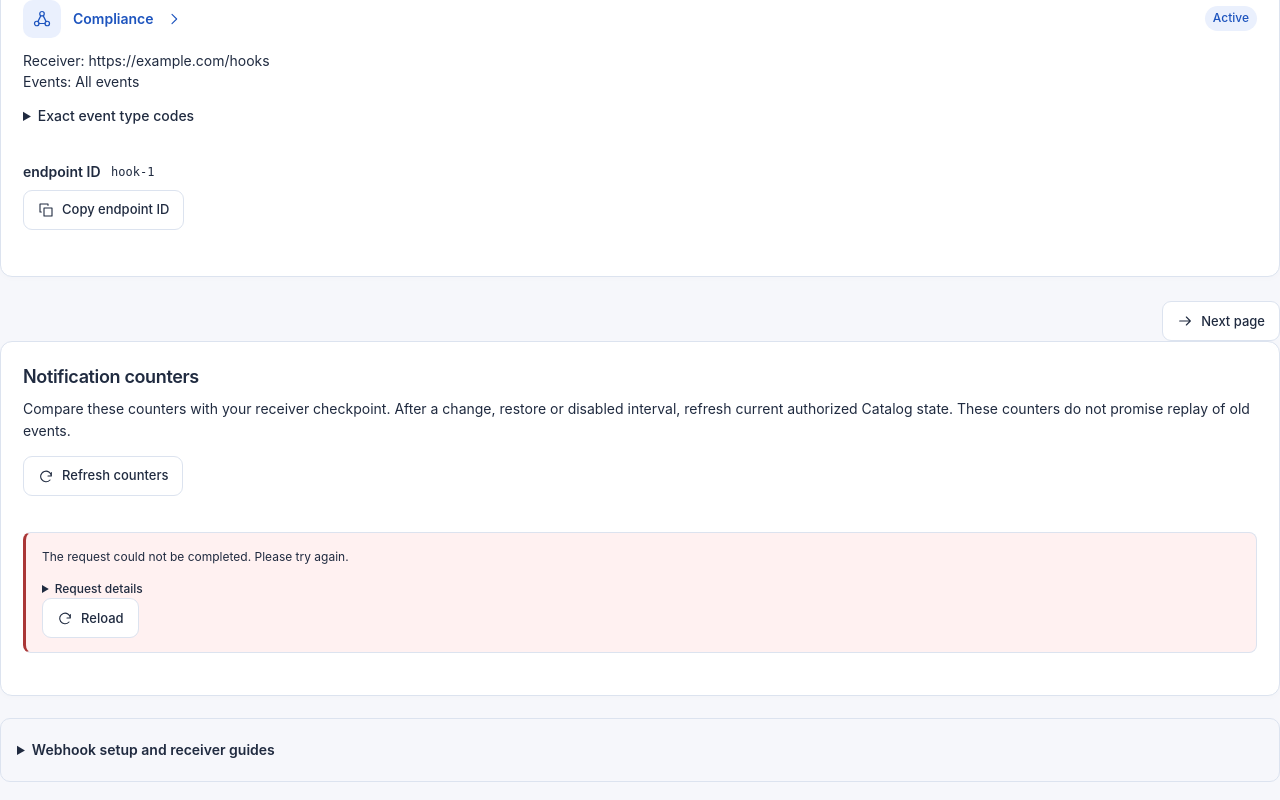
Test case: rejects malformed reconciliation counts and recovers through a manual refresh
(page scrolled)
Expected: the message "The request could not be completed. Please try again. Request details Reload" is shown, [23,532,1257,653]
Expected: the text "Events awaiting delivery" is not shown
Click the button "Refresh counters" at (103, 476), box [23,456,184,496]
(page scrolled)
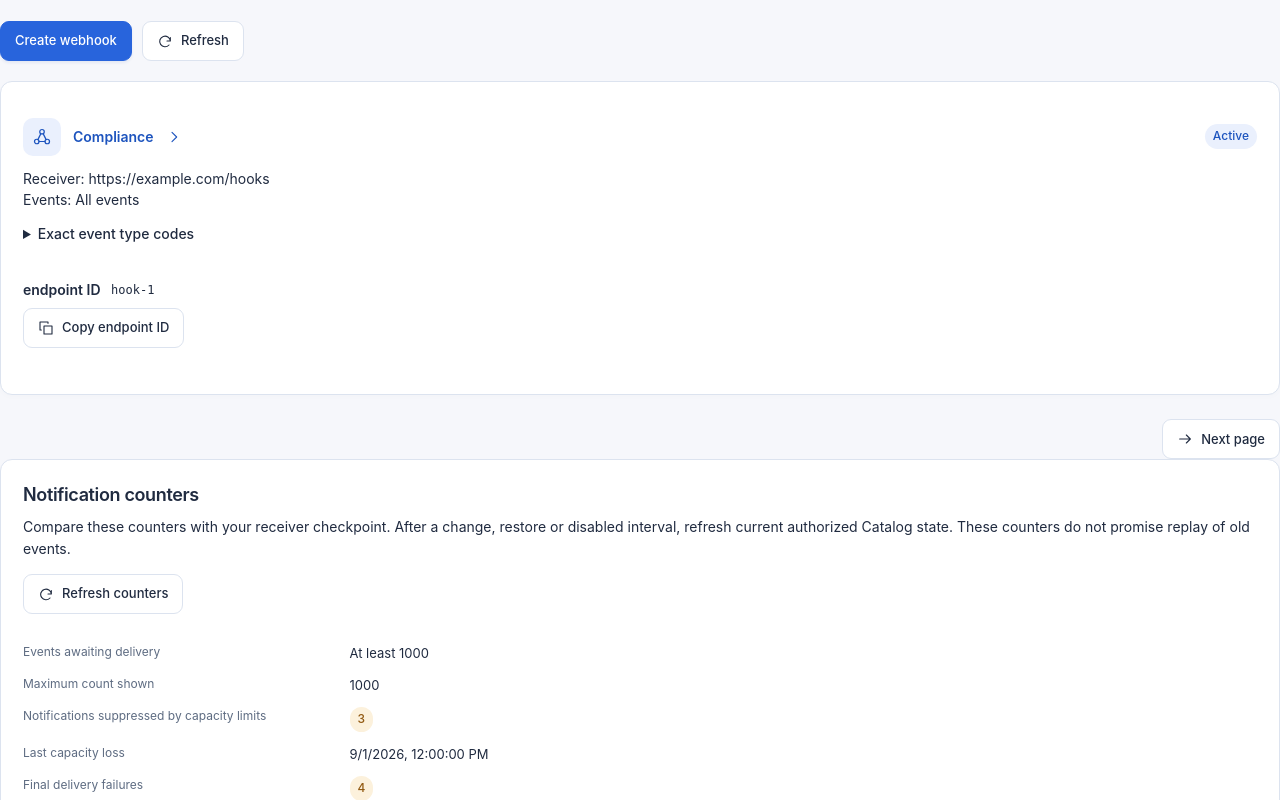
Expected: the text "Events awaiting delivery" is shown, [23,644,160,659]
Expected: the message "The request could not be completed. Please try again. Request details Reload" is gone
Expected: the text "At least 1000" is shown, [350,645,429,661]
